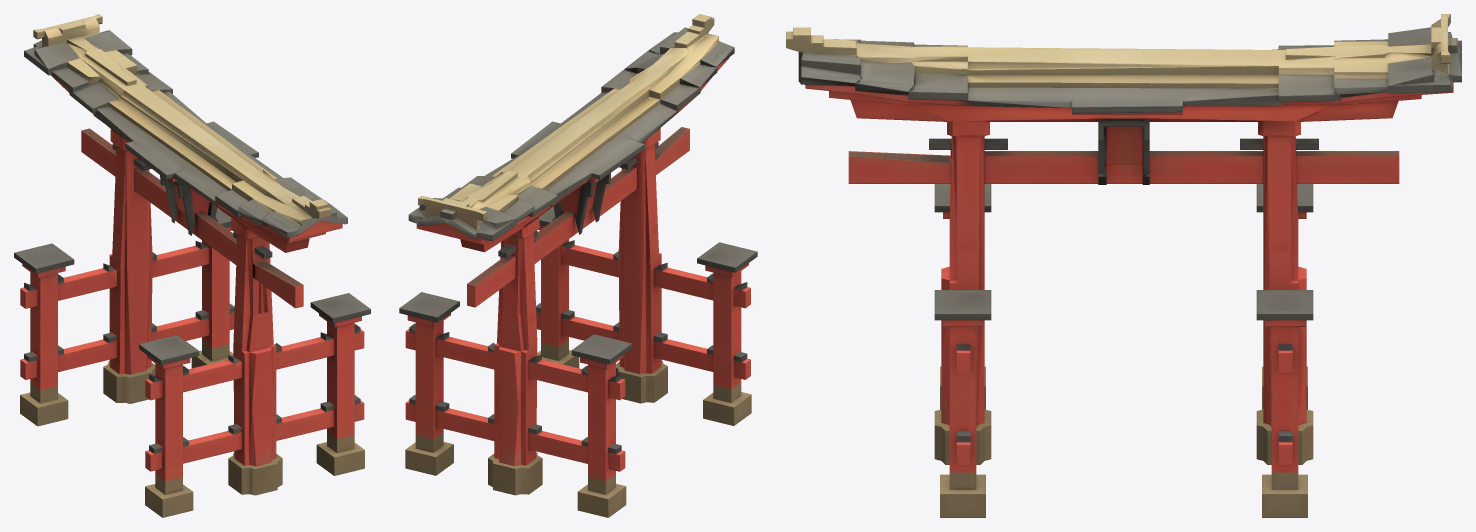
The model's file is torii.obj.
3 views of the same model, side by side, from view 1: azimuth 30°, elevation 25°; view 2: azimuth 150°, elevation 25°; view 3: azimuth 270°, elevation 25° (orthographic). The views are drawn at different scales.
Parts seen in each view (by area): view 1: model; view 2: model; view 3: model.
Part boxes in pixels (x1=…): model: x1=14, y1=14, x2=370, y2=517; model: x1=399, y1=14, x2=757, y2=517; model: x1=786, y1=14, x2=1461, y2=517.
Size of the model in its own units: 0.8996 by 1.32 by 1.91.
Materials: 1 (1 with a texture image).
